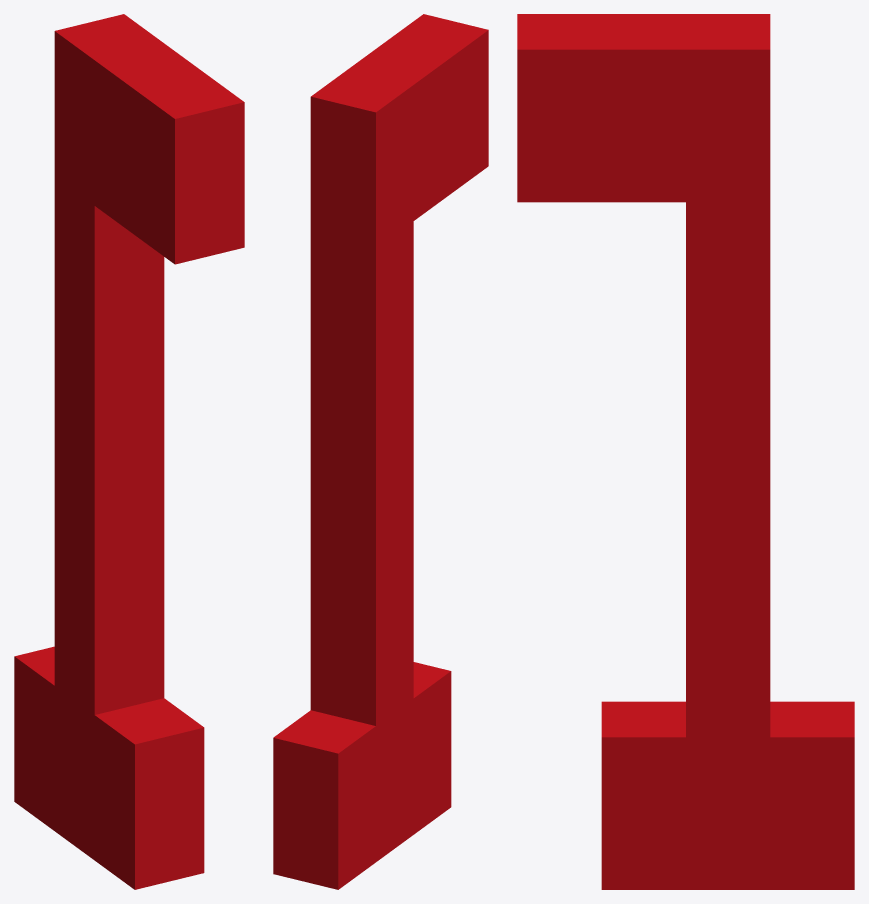
The model's file is mailbox_redthiny.dae.
The picture shows the model from 3 angles, left to right: view 1: azimuth 30°, elevation 25°; view 2: azimuth 150°, elevation 25°; view 3: azimuth 270°, elevation 25°; orthographic projection. The views are drawn at different scales.
Parts seen in each view (by area): view 1: PlaneCOL; view 2: PlaneCOL; view 3: PlaneCOL.
Boxes of the visible parts, box(x1,y1,x2,y2) form: PlaneCOL: box(14, 14, 244, 889); PlaneCOL: box(273, 14, 488, 889); PlaneCOL: box(517, 14, 854, 889).
Size of the model in its own units: 0.1 by 0.4 by 1.1.
